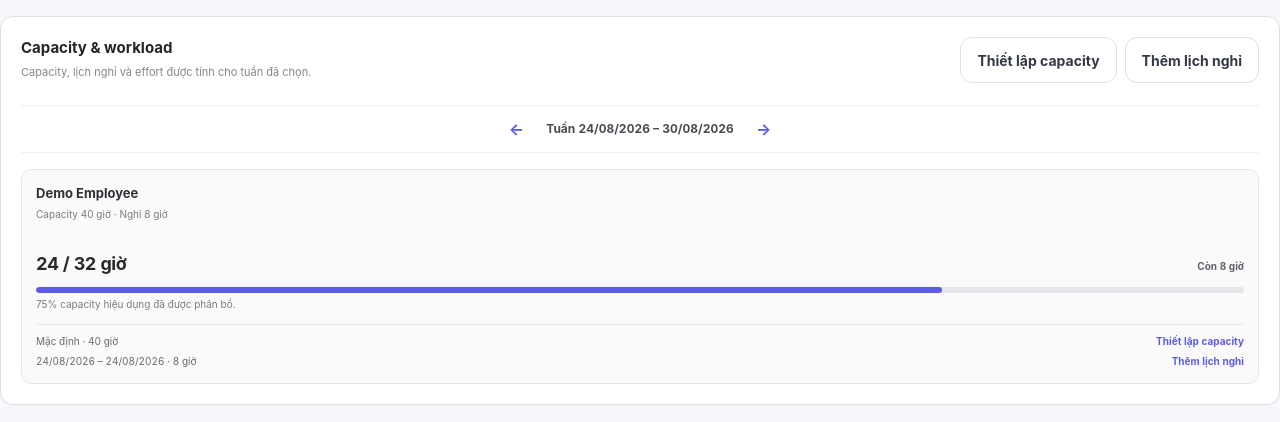
Test case: AvailabilityPanel › moves one calendar week at a time and reloads the workload
Expected: the text "24 / 32 giờ" is shown, left=36, top=250, right=126, bottom=276
Click the button named "Tuần sau" at [764, 129], box left=750, top=117, right=778, bottom=141
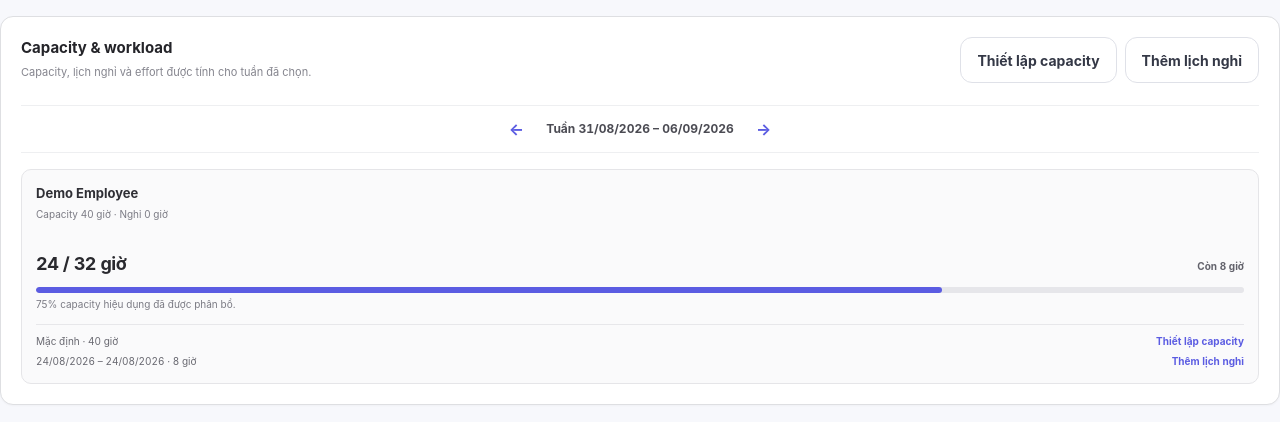
Expected: the text "Tuần 31/08/2026 – 06/09/2026" is shown, left=546, top=120, right=734, bottom=138
